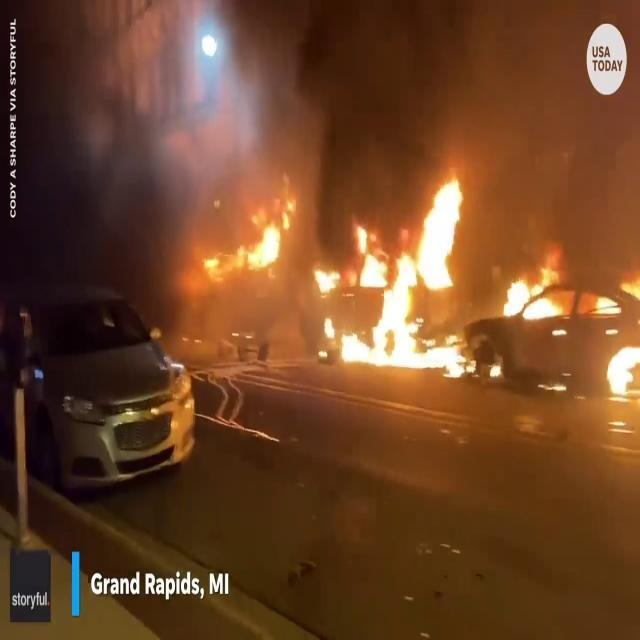Fire: (317, 172, 467, 372), (202, 208, 288, 280), (598, 265, 640, 404), (498, 263, 568, 325)
Smoke: (222, 1, 622, 218)
